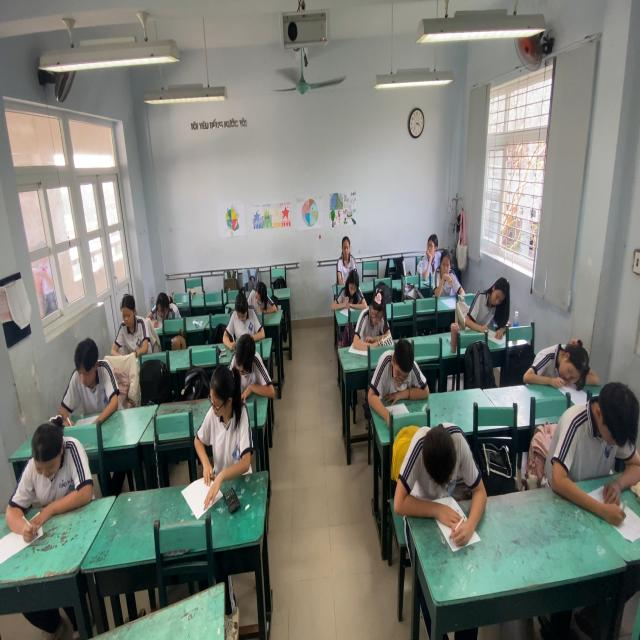cheating: (418, 225, 443, 280)
not_cheating: (550, 370, 640, 532), (398, 413, 480, 553), (19, 411, 92, 528), (194, 359, 254, 494), (518, 323, 599, 405), (62, 337, 121, 440), (366, 326, 430, 408), (460, 268, 513, 346), (224, 328, 275, 403), (112, 290, 152, 370), (354, 278, 391, 350), (224, 291, 265, 348), (431, 247, 466, 307), (331, 264, 365, 316), (328, 227, 357, 280), (148, 283, 182, 328), (246, 275, 278, 321)
